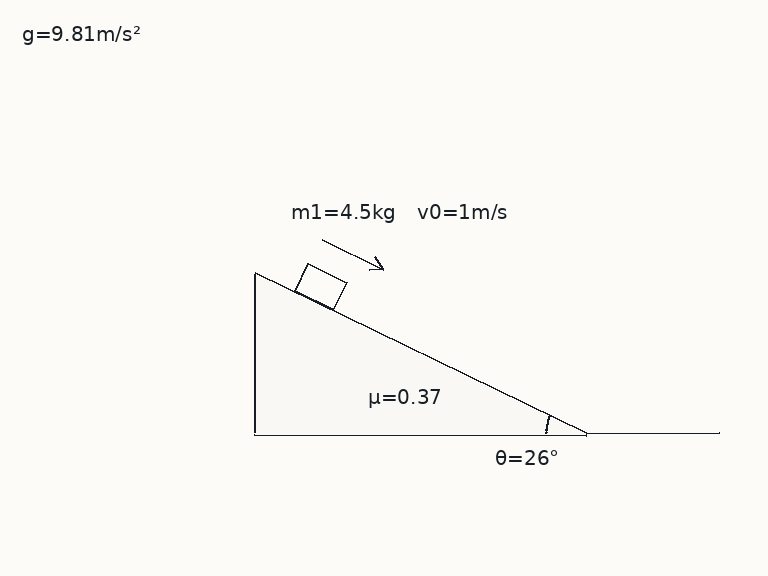block: (293, 262, 348, 312)
ramp: (253, 270, 588, 435)
